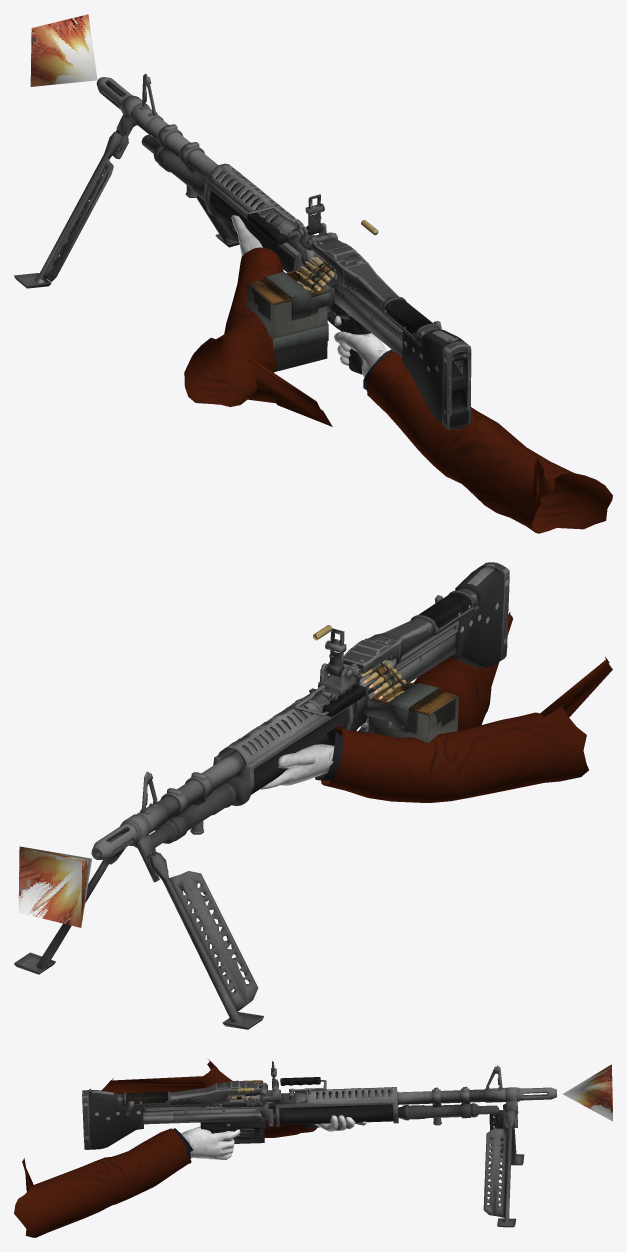
The model's file is frame_0004.obj.
3 renders of one model, top to bottom at view 1: azimuth 30°, elevation 25°; view 2: azimuth 150°, elevation 25°; view 3: azimuth 270°, elevation 25°, orthographic. The views are drawn at different scales.
Visible parts, largest first — view 1: Mesh.005, PlayerModelMerged.001_PlayerModelMerged, Plane, Mesh.001; view 2: Mesh.005, PlayerModelMerged.001_PlayerModelMerged, Plane, Mesh.001; view 3: Mesh.005, PlayerModelMerged.001_PlayerModelMerged, Plane.
Boxes of the visible parts, bbox=[...] form: Mesh.005: bbox=[14, 73, 471, 429]; PlayerModelMerged.001_PlayerModelMerged: bbox=[184, 215, 612, 533]; Plane: bbox=[30, 14, 97, 86]; Mesh.001: bbox=[296, 254, 335, 290]; Mesh.005: bbox=[14, 562, 509, 1029]; PlayerModelMerged.001_PlayerModelMerged: bbox=[260, 612, 612, 802]; Plane: bbox=[18, 846, 91, 927]; Mesh.001: bbox=[361, 660, 406, 699]; Mesh.005: bbox=[82, 1061, 556, 1227]; PlayerModelMerged.001_PlayerModelMerged: bbox=[14, 1059, 366, 1237]; Plane: bbox=[562, 1064, 612, 1121].
Size of the model in its own units: 0.9491 by 0.7115 by 2.6.
